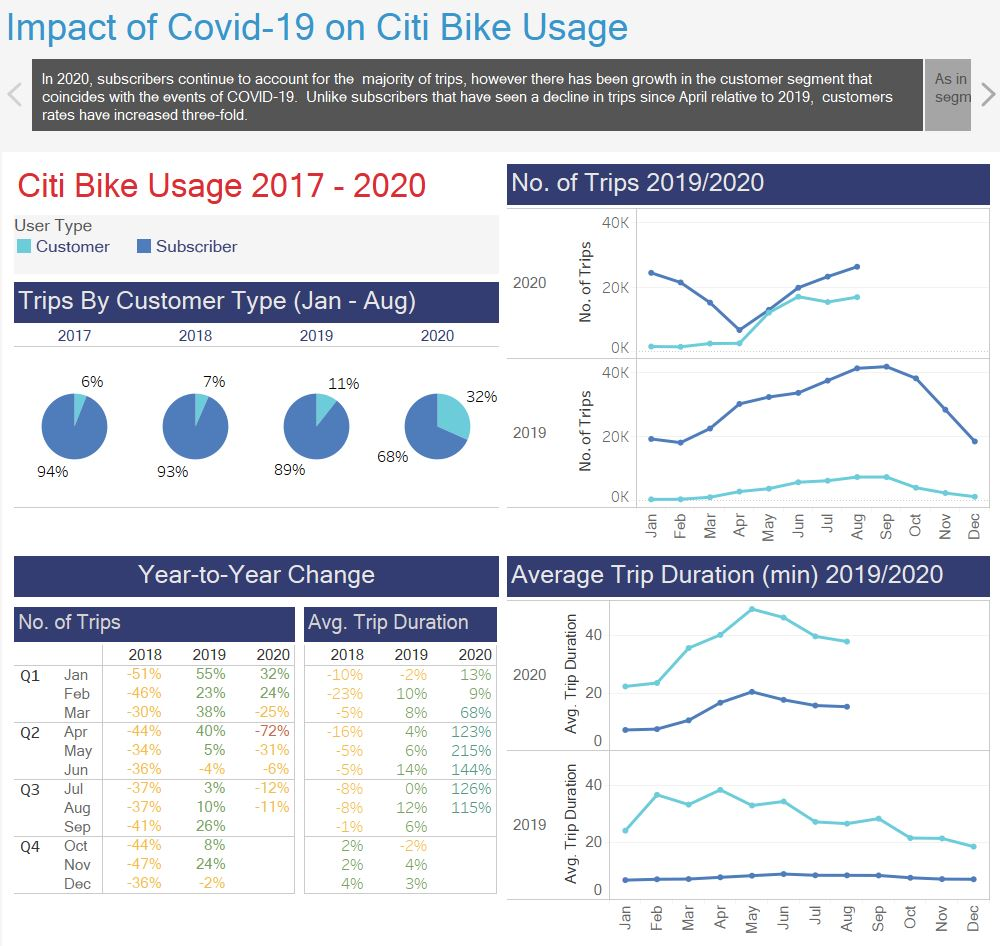

What the dashboard file says about the page in this screenshot:
{"tool":"tableau","page":{"name":"Usage","canvas":[1000,800],"ordinal":1},"visuals":[{"type":"worksheet","box":[0,0,1000,800]},{"type":"worksheet","param":"vert","box":[8,8,984,784]},{"type":"worksheet","box":[8,8,984,784]},{"type":"worksheet","box":[8,8,493,51]},{"type":"worksheet","title":"Usage over time","mark":"Line","rows":["starttime","bikeid"],"cols":["starttime"],"box":[501,8,491,392]},{"type":"worksheet","title":"Duration over time","mark":"Line","rows":["starttime","Calculation_1016687652612415488"],"cols":["starttime"],"param":"[federated.1dh2xpi08bk03a19hez5q01vjq2d].[none:usertype:nk]","box":[8,59,493,67]},{"type":"worksheet","param":"vert","box":[8,126,493,274]},{"type":"worksheet","param":"vert","box":[8,126,493,274]},{"type":"worksheet","title":"No. Trips by Customer Type","mark":"Pie","cols":["starttime"],"box":[8,126,493,234]},{"type":"worksheet","box":[8,400,493,392]},{"type":"worksheet","box":[8,400,493,392]},{"type":"worksheet","box":[8,400,493,392]},{"type":"worksheet","param":"horz","box":[8,400,493,392]},{"type":"worksheet","param":"horz","box":[8,400,493,392]},{"type":"worksheet","param":"vert","box":[8,400,493,392]},{"type":"worksheet","title":"YTY Title","mark":"Automatic","box":[8,400,493,51]},{"type":"worksheet","title":"Duration over time","mark":"Line","rows":["starttime","Calculation_1016687652612415488"],"cols":["starttime"],"box":[501,400,491,392]},{"type":"worksheet","param":"horz","box":[8,451,493,328]},{"type":"worksheet","param":"horz","box":[8,451,493,295]},{"type":"worksheet","title":"YTY change in trips by Year","mark":"Automatic","rows":["starttime","starttime"],"cols":["starttime"],"box":[8,451,290,295]},{"type":"worksheet","title":"YTY change in avg. duration by Year","mark":"Automatic","rows":["starttime","starttime"],"cols":["starttime"],"box":[298,451,202,295]}]}

Visuals, with their boxes on the page's 1000x800 design canvas (x1, y1, x2, y2). These are canvas units, not pixel positions in the 1000x946 screenshot, which may show the page scaled, cropped or inside an application window:
worksheet: <region>0, 0, 1000, 800</region>
worksheet: <region>8, 8, 992, 792</region>
worksheet: <region>8, 8, 992, 792</region>
worksheet: <region>8, 8, 501, 59</region>
"Usage over time" worksheet (Line marks): <region>501, 8, 992, 400</region>
"Duration over time" worksheet (Line marks): <region>8, 59, 501, 126</region>
worksheet: <region>8, 126, 501, 400</region>
worksheet: <region>8, 126, 501, 400</region>
"No. Trips by Customer Type" worksheet (Pie marks): <region>8, 126, 501, 360</region>
worksheet: <region>8, 400, 501, 792</region>
worksheet: <region>8, 400, 501, 792</region>
worksheet: <region>8, 400, 501, 792</region>
worksheet: <region>8, 400, 501, 792</region>
worksheet: <region>8, 400, 501, 792</region>
worksheet: <region>8, 400, 501, 792</region>
"YTY Title" worksheet: <region>8, 400, 501, 451</region>
"Duration over time" worksheet (Line marks): <region>501, 400, 992, 792</region>
worksheet: <region>8, 451, 501, 779</region>
worksheet: <region>8, 451, 501, 746</region>
"YTY change in trips by Year" worksheet: <region>8, 451, 298, 746</region>
"YTY change in avg. duration by Year" worksheet: <region>298, 451, 500, 746</region>
